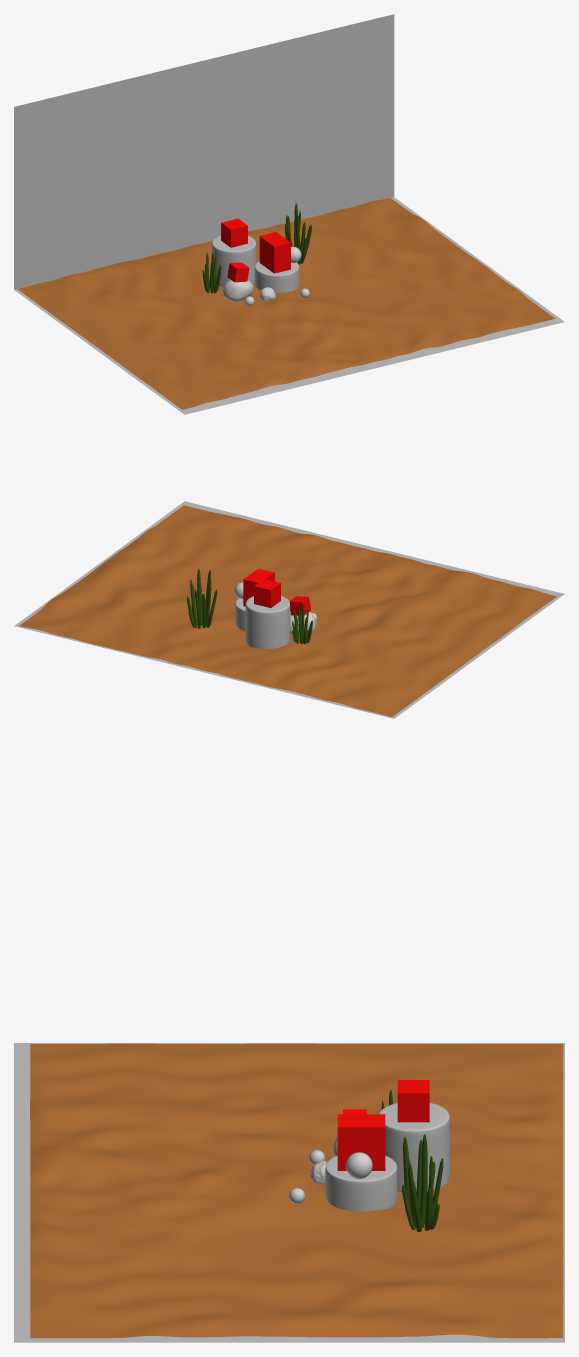
The model's file is stage-placeholder4.glb.
3 renders of one model, top to bottom at view 1: azimuth 30°, elevation 25°; view 2: azimuth 150°, elevation 25°; view 3: azimuth 270°, elevation 25°, orthographic. The views are drawn at different scales.
Visible parts, largest first — view 1: backdrop, sand, pallet-2, placeholder2, pallet-1, decorative-tree-1, placeholder, rock-2, decorative-tree-2; view 2: sand, backdrop, pallet-2, decorative-tree-1, placeholder, decorative-tree-2, placeholder2; view 3: sand, backdrop, pallet-2, pallet-1, decorative-tree-1, placeholder2, placeholder.
Part boxes in pixels (bbox=[...]): backdrop: bbox=[14, 14, 564, 414]; sand: bbox=[17, 198, 555, 409]; pallet-2: bbox=[211, 235, 256, 287]; placeholder2: bbox=[259, 232, 290, 273]; pallet-1: bbox=[254, 261, 299, 292]; decorative-tree-1: bbox=[284, 203, 311, 264]; placeholder: bbox=[221, 218, 247, 247]; rock-2: bbox=[223, 280, 253, 301]; decorative-tree-2: bbox=[202, 252, 221, 293]; sand: bbox=[19, 505, 556, 716]; backdrop: bbox=[14, 501, 564, 718]; pallet-2: bbox=[245, 596, 290, 648]; decorative-tree-1: bbox=[187, 568, 217, 628]; placeholder: bbox=[254, 579, 280, 607]; decorative-tree-2: bbox=[292, 602, 312, 644]; placeholder2: bbox=[243, 568, 274, 606]; sand: bbox=[30, 1043, 563, 1338]; backdrop: bbox=[14, 1043, 564, 1342]; pallet-2: bbox=[379, 1103, 449, 1192]; pallet-1: bbox=[325, 1155, 397, 1211]; decorative-tree-1: bbox=[402, 1134, 443, 1231]; placeholder2: bbox=[337, 1114, 385, 1170]; placeholder: bbox=[397, 1080, 429, 1122].
Bounding box in the file's own units: 2.97 × 1.38 × 2.3.
